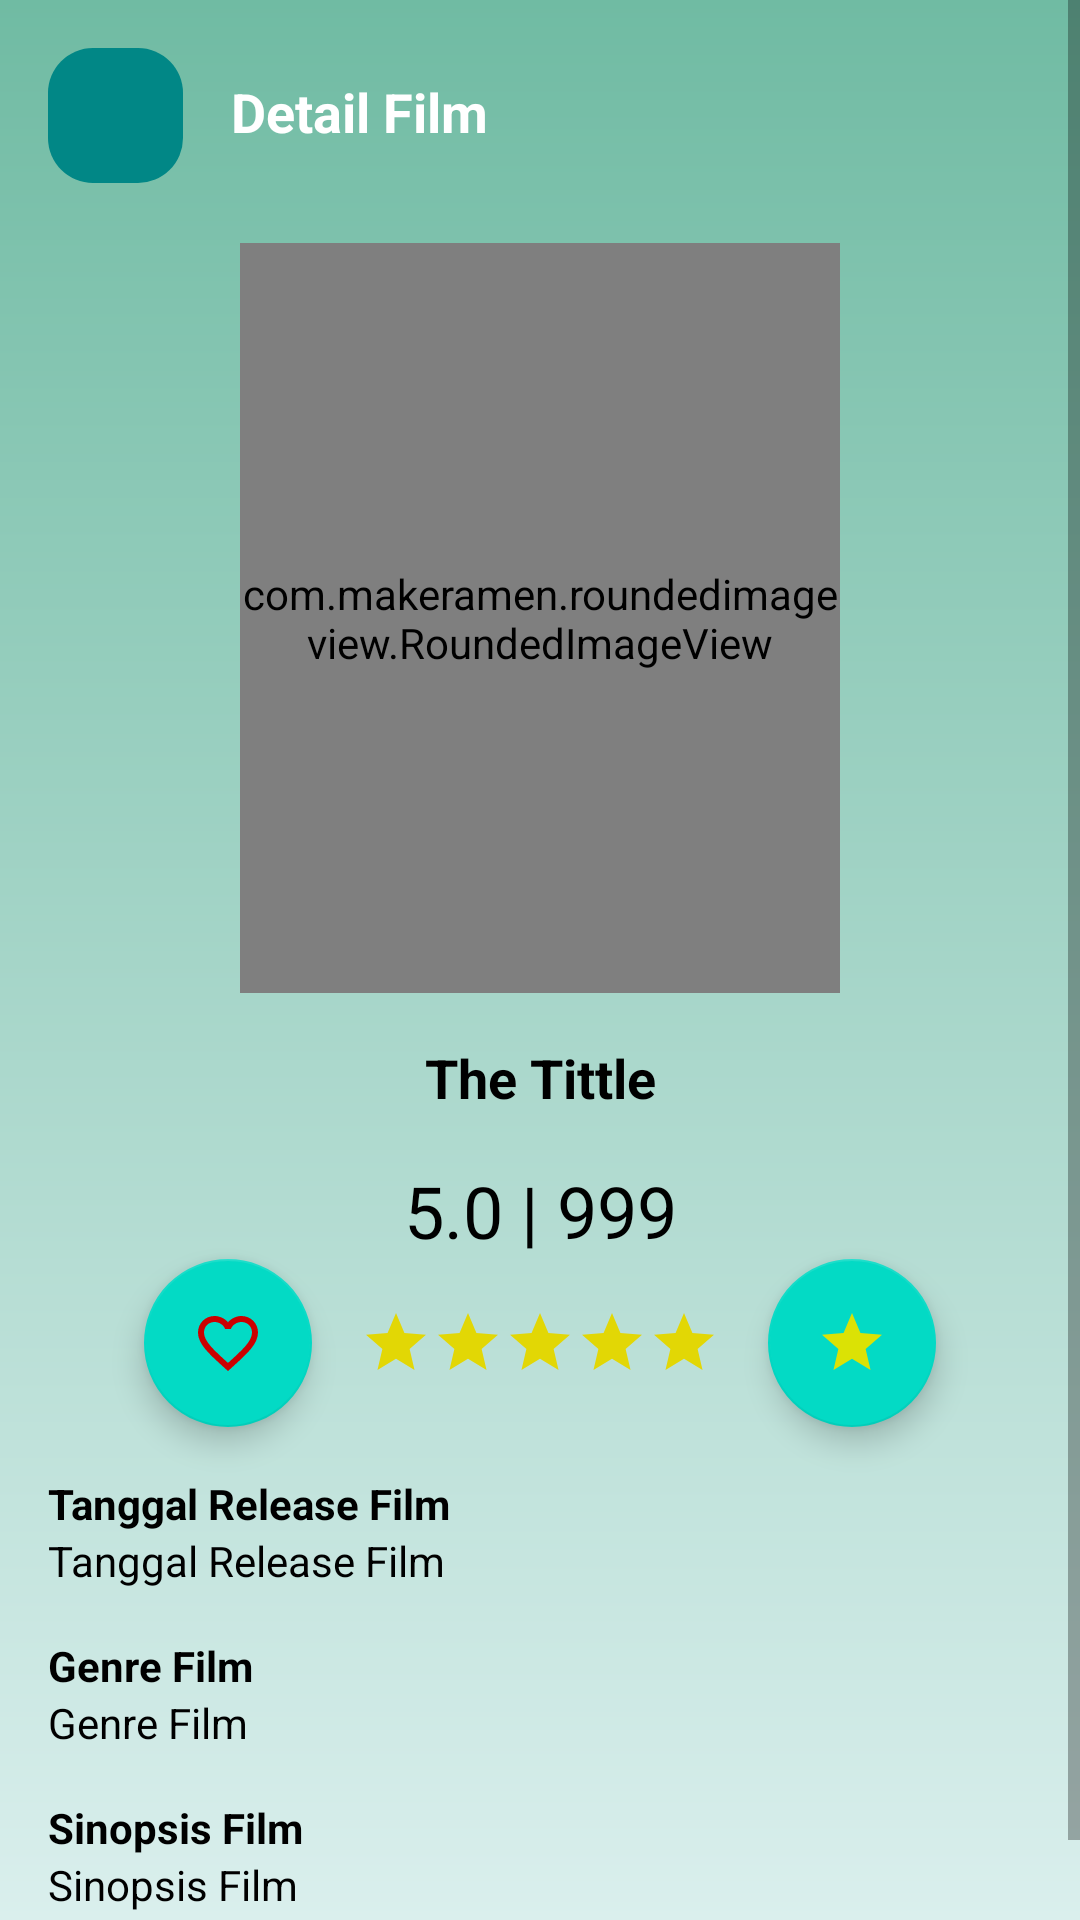

Icon click points for this 1080px x 1920px phone screenshot, format [x,y]:
favorite border: [228,1343]
star: [852,1343], [396,1341], [468,1341], [540,1341], [612,1341], [684,1341]
